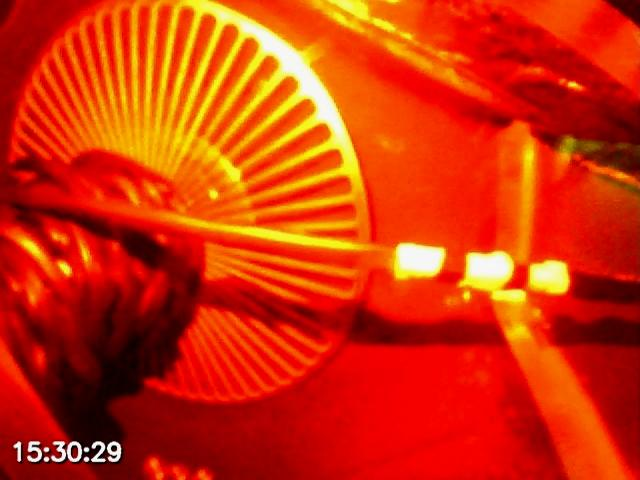white-dots: (392, 242, 571, 295)
